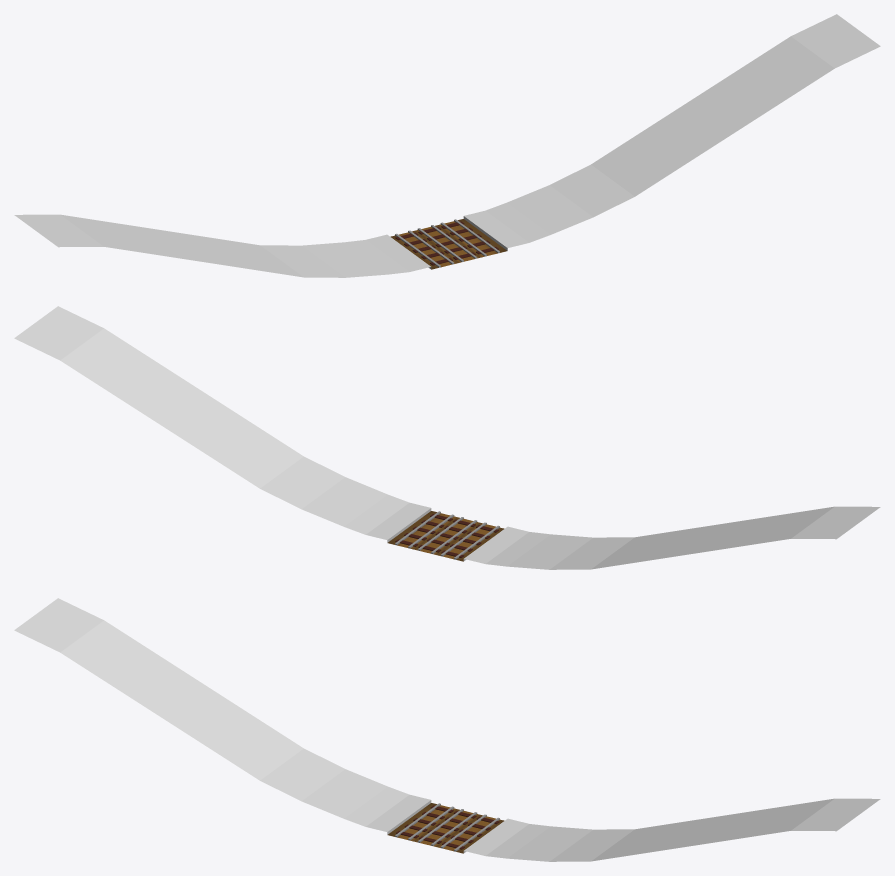
Rendered from Track.fbx.
The picture shows the model from 3 angles, top to bottom: view 1: azimuth 30°, elevation 25°; view 2: azimuth 150°, elevation 25°; view 3: azimuth 330°, elevation 25°; orthographic projection.
Visible parts, largest first — view 1: Cube.001, Cube.005; view 2: Cube.001, Cube.005; view 3: Cube.001, Cube.005.
Boxes of the visible parts, x1,y1,x2,y2 form: Cube.001: [14, 14, 880, 277]; Cube.005: [390, 219, 506, 269]; Cube.001: [14, 306, 880, 569]; Cube.005: [388, 511, 504, 561]; Cube.001: [14, 598, 880, 861]; Cube.005: [388, 803, 504, 853].
Size of the model in its own units: 5386 by 711 by 500.
